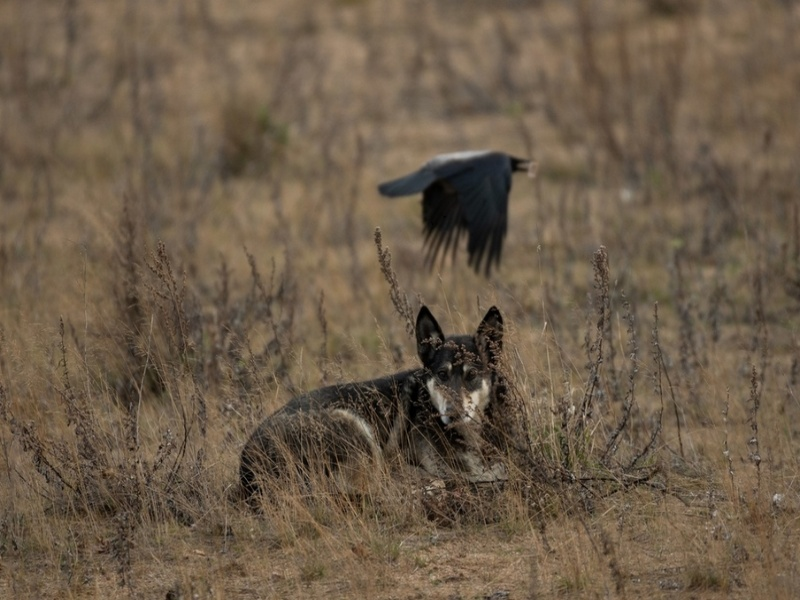dog: (235, 296, 536, 520)
